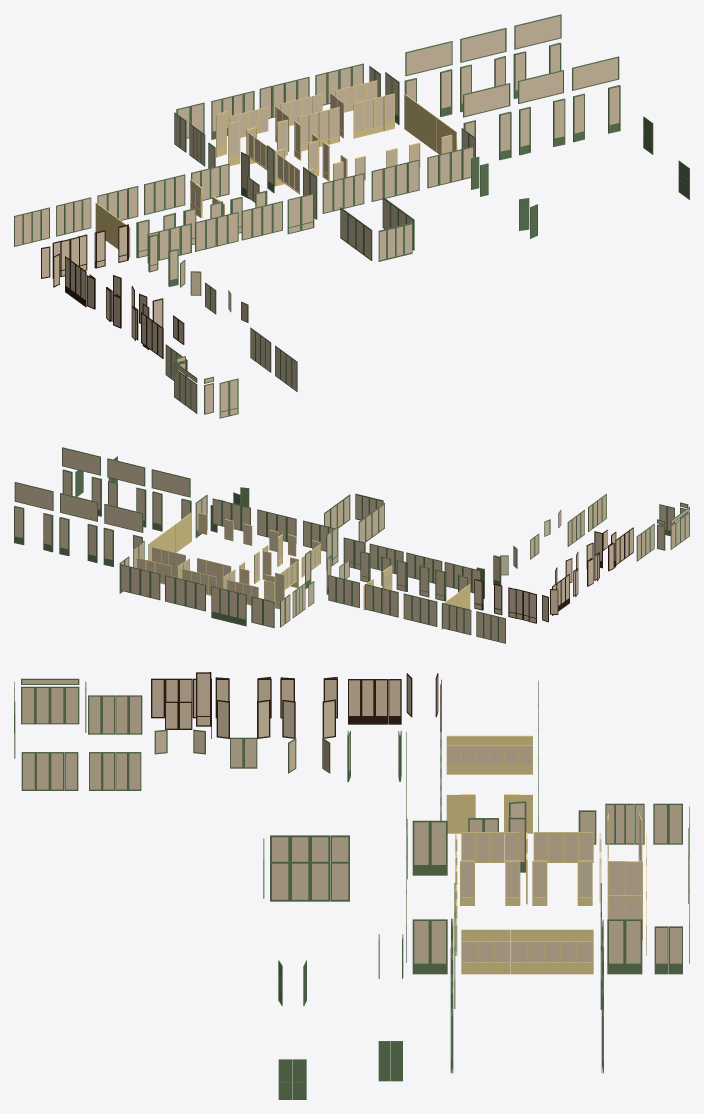
File: Screens_OptimizePartial_2.13.fbx
The picture shows the model from 3 angles, top to bottom: view 1: azimuth 30°, elevation 25°; view 2: azimuth 150°, elevation 25°; view 3: azimuth 270°, elevation 25°; orthographic projection. The views are drawn at different scales.
Parts seen in each view (by area): view 1: Screen.103, Screen.111, Screen.110, Screen.109, Screen.107, Screen.108, Screen.106; view 2: Screen.103, Screen.110, Screen.111, Screen.107, Screen.109, Screen.108, Screen.106, Screen.171, Screen.182, Screen.186, Screen.185, Screen.189 (+8 smaller); view 3: Screen.103, Screen.134, Screen.136, Screen.139, Screen.135, Screen.137, Screen.138, Screen.244, Screen.248, Screen.271, Screen.272, Screen.273 (+20 smaller).
Boxes of the visible parts, bbox=[...] form: Screen.103: bbox=[165, 327, 297, 414]; Screen.111: bbox=[514, 14, 561, 49]; Screen.110: bbox=[405, 41, 452, 76]; Screen.109: bbox=[460, 28, 506, 62]; Screen.107: bbox=[463, 83, 510, 117]; Screen.108: bbox=[572, 56, 619, 90]; Screen.106: bbox=[518, 70, 563, 103]; Screen.103: bbox=[567, 493, 689, 561]; Screen.110: bbox=[104, 504, 143, 532]; Screen.111: bbox=[14, 482, 53, 510]; Screen.107: bbox=[151, 469, 190, 497]; Screen.109: bbox=[60, 493, 97, 521]; Screen.108: bbox=[62, 447, 100, 475]; Screen.106: bbox=[107, 458, 145, 486]; Screen.171: bbox=[152, 492, 162, 531]; Screen.182: bbox=[103, 528, 113, 566]; Screen.186: bbox=[59, 517, 69, 555]; Screen.185: bbox=[87, 524, 97, 562]; Screen.189: bbox=[43, 513, 52, 552]; Screen.103: bbox=[14, 686, 142, 790]; Screen.134: bbox=[430, 919, 447, 974]; Screen.136: bbox=[430, 820, 447, 875]; Screen.139: bbox=[607, 919, 624, 974]; Screen.135: bbox=[412, 919, 429, 974]; Screen.137: bbox=[412, 820, 429, 875]; Screen.138: bbox=[625, 919, 642, 974]; Screen.244: bbox=[196, 672, 211, 726]; Screen.248: bbox=[527, 929, 544, 974]; Screen.271: bbox=[270, 861, 289, 901]; Screen.272: bbox=[330, 861, 349, 901]; Screen.273: bbox=[290, 861, 309, 901].
Bounding box in the file's own units: 3692 × 568 × 2843.
